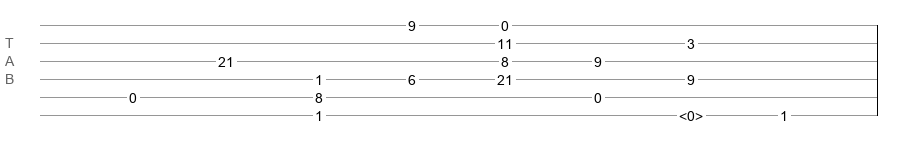0: (129, 90, 137, 100), (501, 18, 509, 28), (594, 90, 602, 100)
1: (315, 108, 323, 118), (315, 72, 323, 82), (780, 108, 788, 118)
11: (497, 36, 513, 46)
21: (218, 54, 234, 64), (497, 72, 513, 82)
3: (687, 36, 695, 46)
6: (408, 72, 416, 82)
8: (315, 90, 323, 100), (501, 54, 509, 64)
9: (408, 18, 416, 28), (594, 54, 602, 64), (687, 72, 695, 82)
harmonic: (679, 108, 703, 118)
